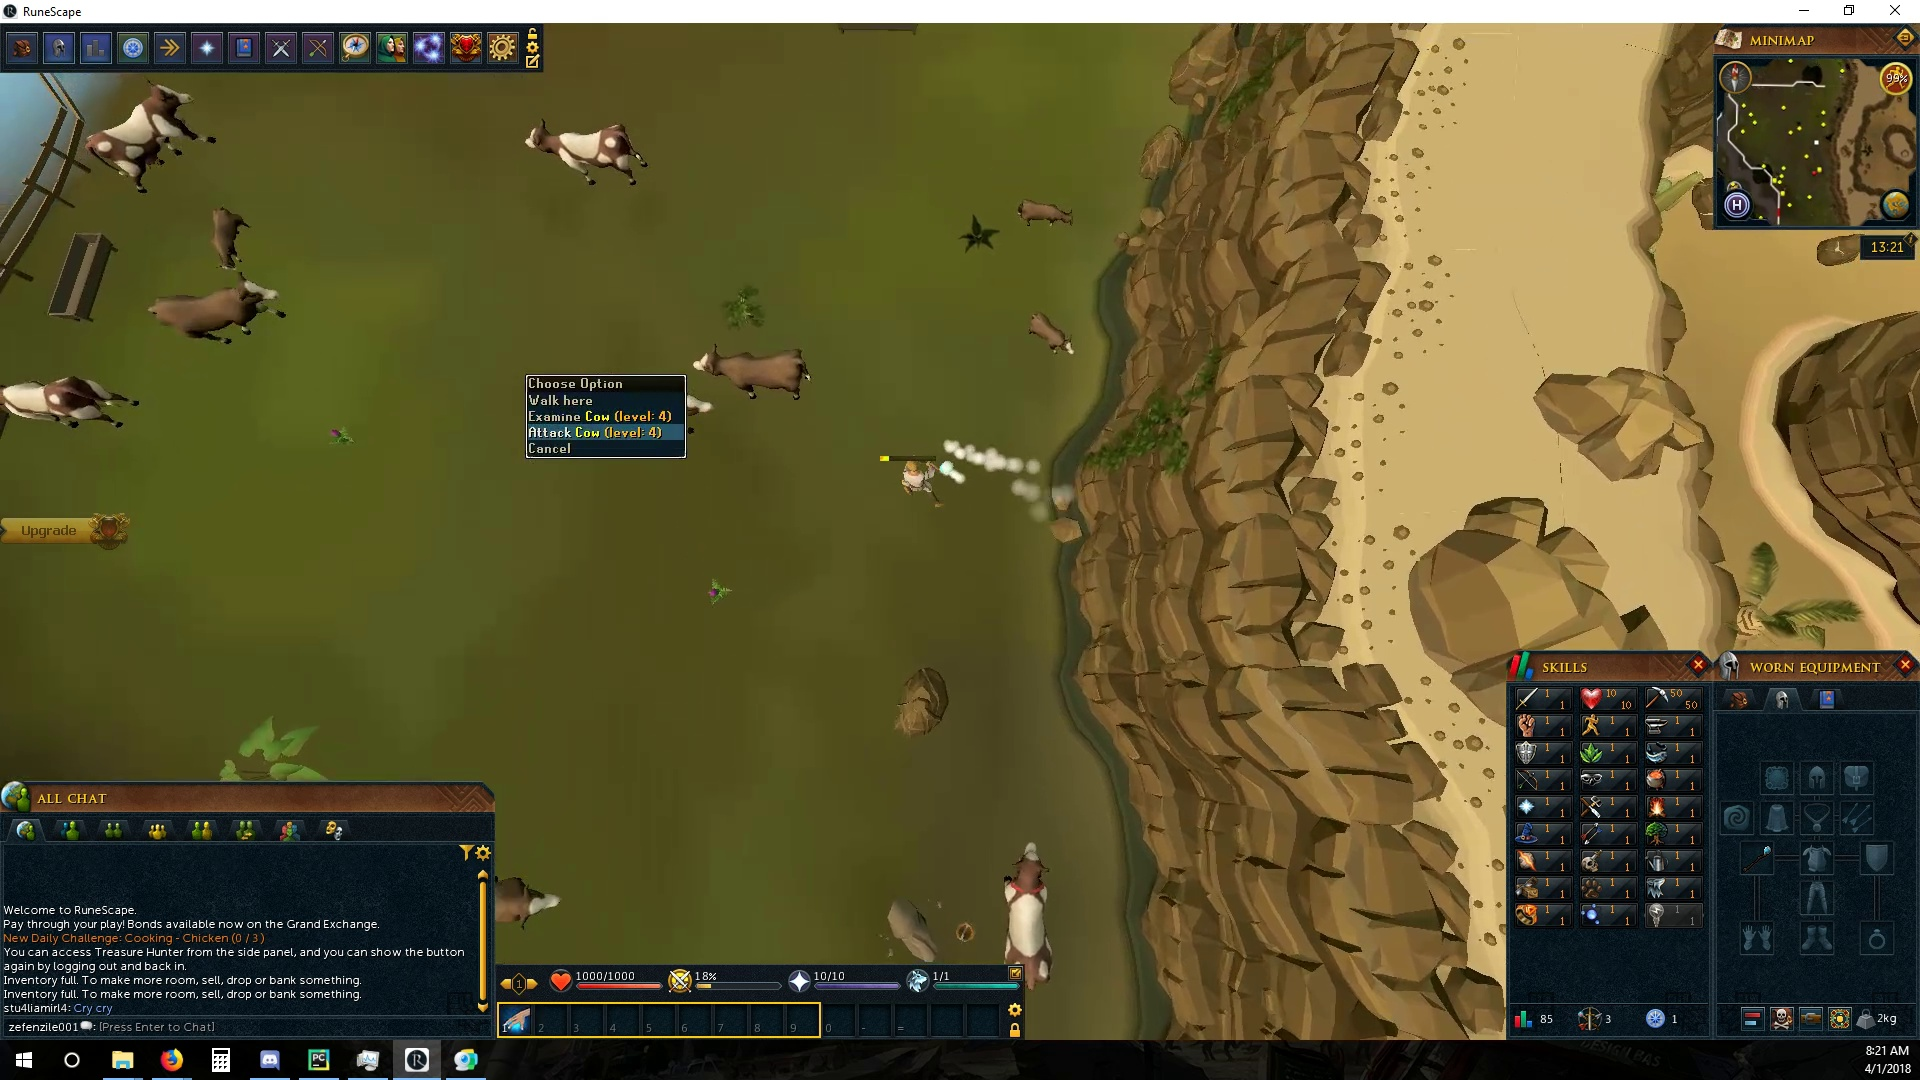calf: (207, 204, 252, 273), (1010, 196, 1080, 232), (1026, 311, 1077, 357)
cow: (86, 74, 222, 195), (149, 272, 290, 349), (5, 371, 144, 436), (526, 117, 653, 189), (998, 837, 1055, 990), (687, 344, 815, 401)
